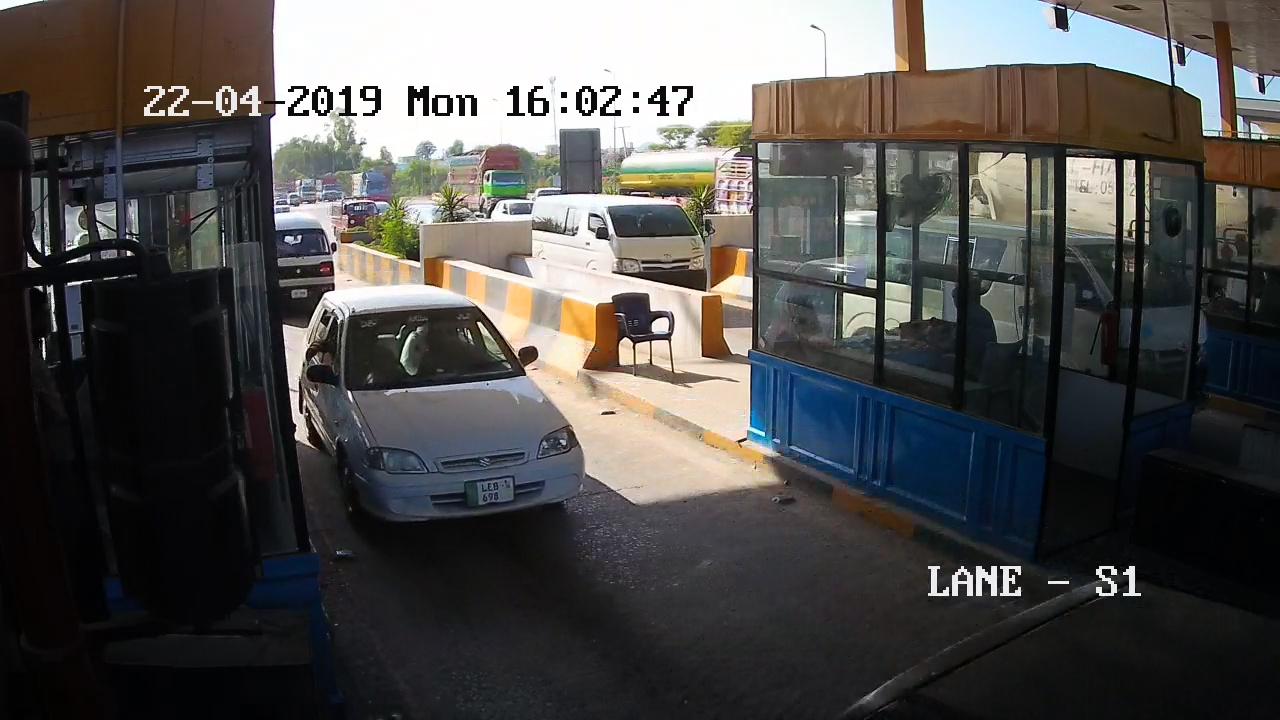car: (303, 300, 629, 561)
